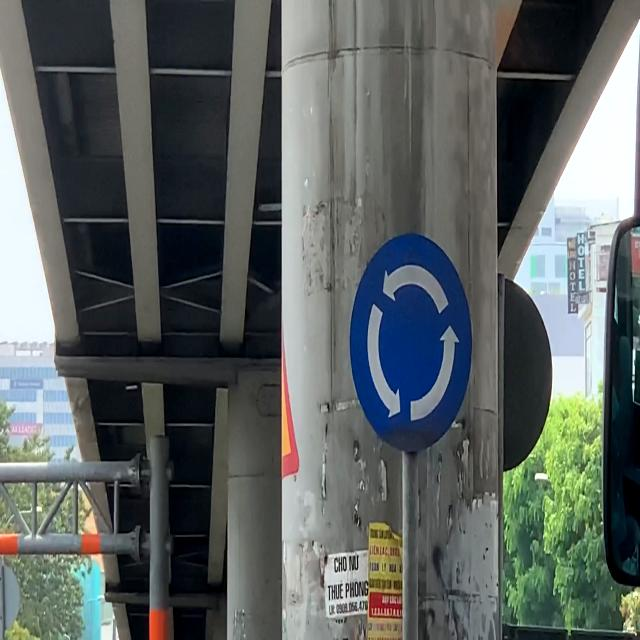R.303: (348, 232, 472, 458)
